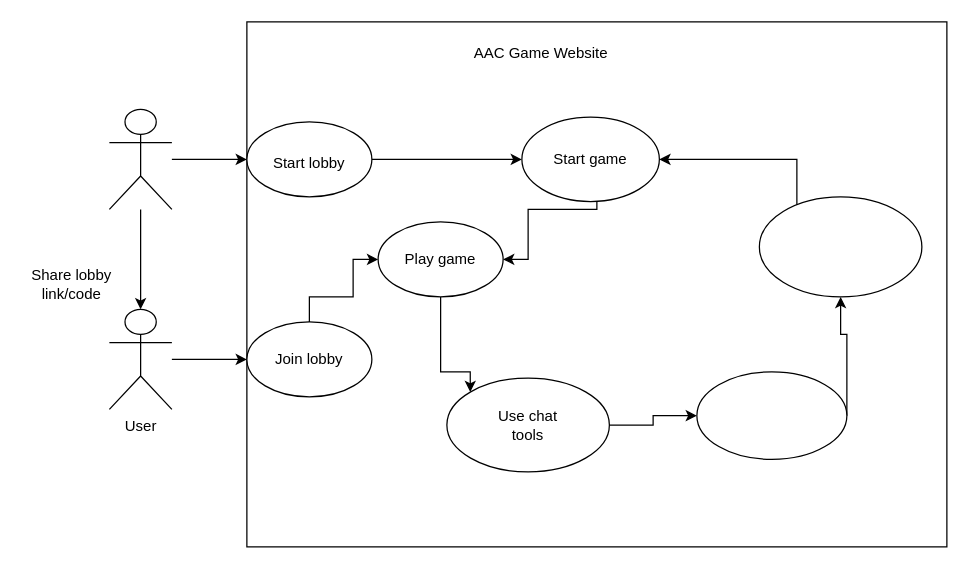
The diagram is 969 pixels wide and 569 high, and some of its shapes have lost their labels. Here are the shapes that lost their labels. From the top down, the box of each, then its label:
(108, 108, 172, 209): Lobby creator
(758, 196, 922, 297): Someone wins the game
(696, 371, 847, 459): Use AAC tools
